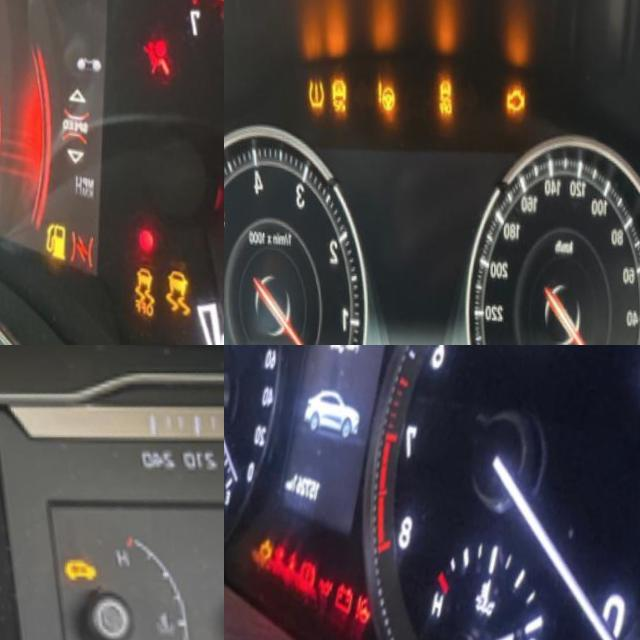security: (61, 543, 103, 585)
